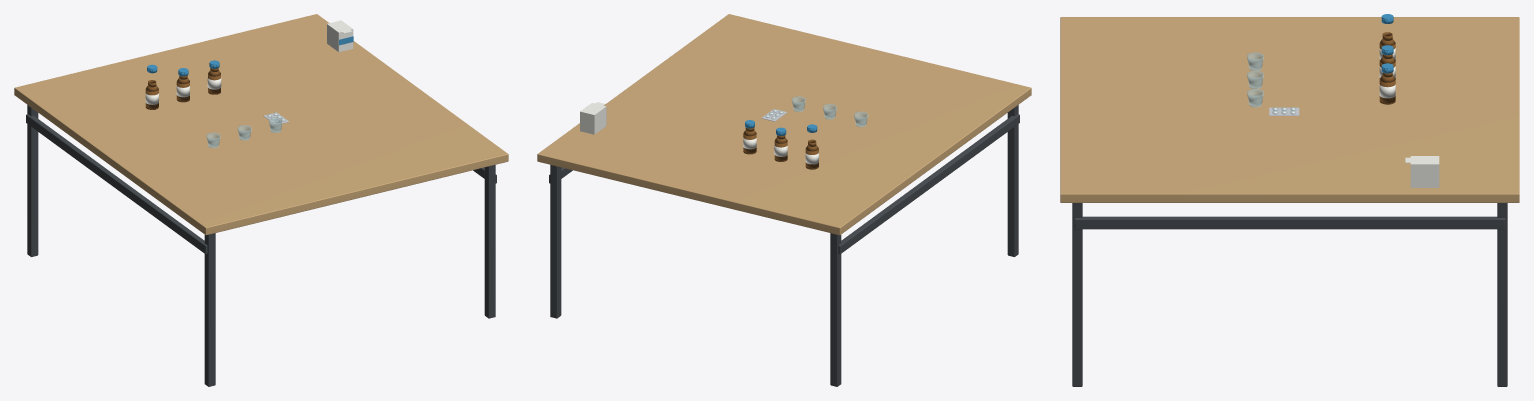
The model's file is table.glb.
The picture shows the model from 3 angles, left to right: view 1: azimuth 30°, elevation 25°; view 2: azimuth 150°, elevation 25°; view 3: azimuth 270°, elevation 25°; orthographic projection. The views are drawn at different scales.
Visible parts, largest first — view 1: central_table_0__top, central_table_0__frame-1, central_table_0__leg1_-1, central_table_0__leg-1_-1, central_table_0; view 2: central_table_0__top, central_table_0, central_table_0__frame-1, central_table_0__leg-1_-1; view 3: central_table_0__top, central_table_0__frame1, central_table_0, central_table_0__leg1_-1, test_medicine_box__side1.
Part boxes in pixels (x1,y1,x2,y2): central_table_0__top: (14,14,508,235); central_table_0__frame-1: (26,114,207,254); central_table_0__leg1_-1: (484,165,495,318); central_table_0__leg-1_-1: (204,233,215,386); central_table_0: (27,105,38,256); central_table_0__top: (537,14,1031,235); central_table_0: (550,165,841,386); central_table_0__frame-1: (838,114,1019,254); central_table_0__leg-1_-1: (1007,105,1018,256); central_table_0__top: (1060,17,1519,202); central_table_0__frame1: (1074,216,1505,229); central_table_0: (1497,203,1507,386); central_table_0__leg1_-1: (1072,203,1082,386); test_medicine_box__side1: (1410,164,1439,187).
Size of the model in its own units: 1.46 by 0.948 by 1.6.
